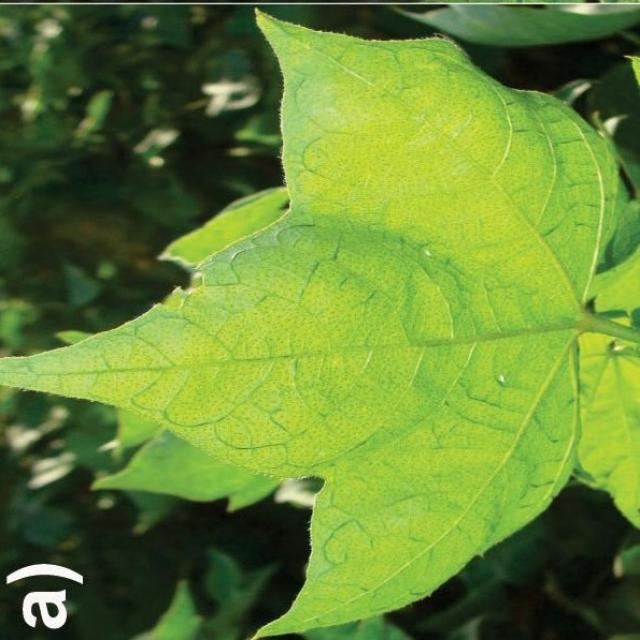Leaf Curl Virus: (258, 66, 581, 518)
